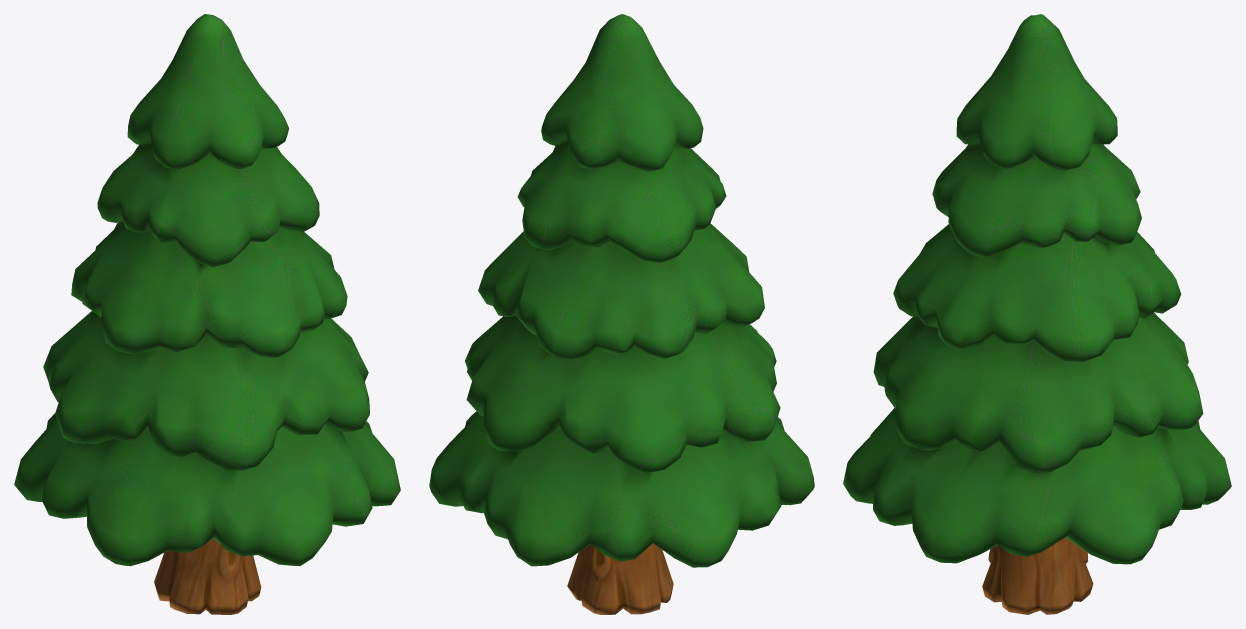
Rendered from tree_pine.glb.
3 renders of one model, left to right at view 1: azimuth 30°, elevation 25°; view 2: azimuth 150°, elevation 25°; view 3: azimuth 270°, elevation 25°, orthographic.
Parts seen in each view (by area): view 1: geometry_0; view 2: geometry_0; view 3: geometry_0.
Part boxes in pixels (x1,y1,x2,y2): geometry_0: (14,14,400,614); geometry_0: (429,14,814,614); geometry_0: (843,14,1231,614).
Bounding box in the file's own units: 0.5425 × 0.9517 × 0.5786.
Materials: 1 (1 with a texture image).
